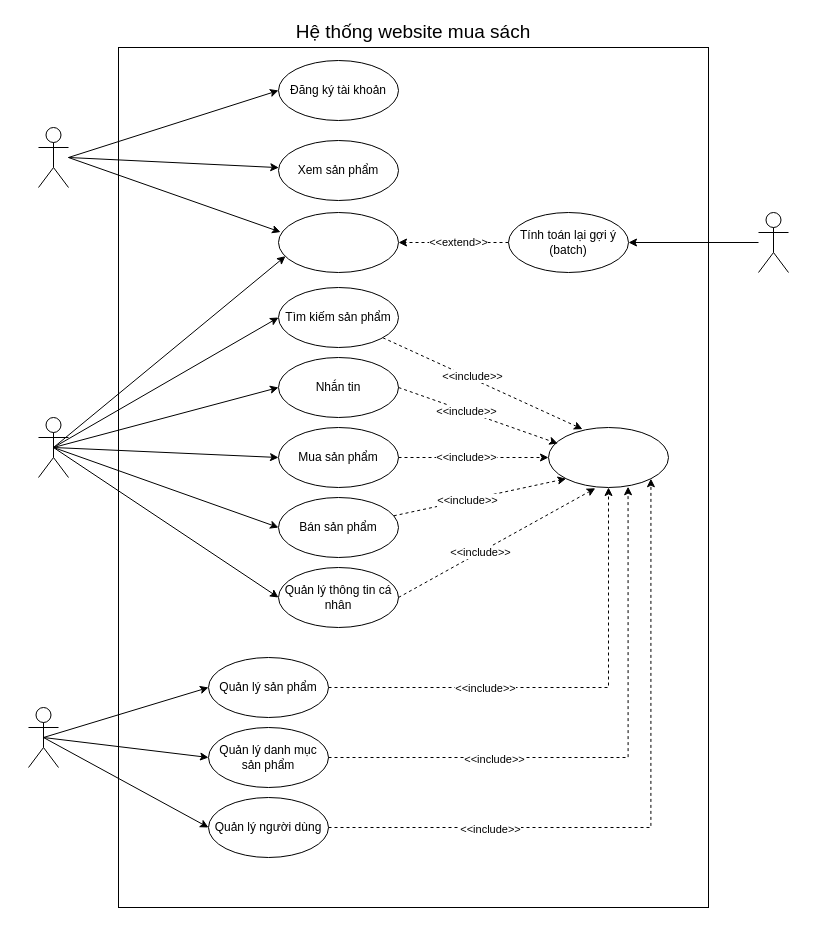
Some shapes in this 822 by 925 pixel diagram are drawn without their labels. Each missing label, with the box of its shape:
Admin: (28, 706, 58, 768)
Hệ thống AI: (758, 212, 788, 272)
Khách không đăng nhập: (38, 126, 68, 188)
Người dùng: (38, 416, 68, 478)
Xem gợi ý cá nhân hoá: (278, 212, 398, 272)
Đăng nhập: (548, 426, 668, 488)
